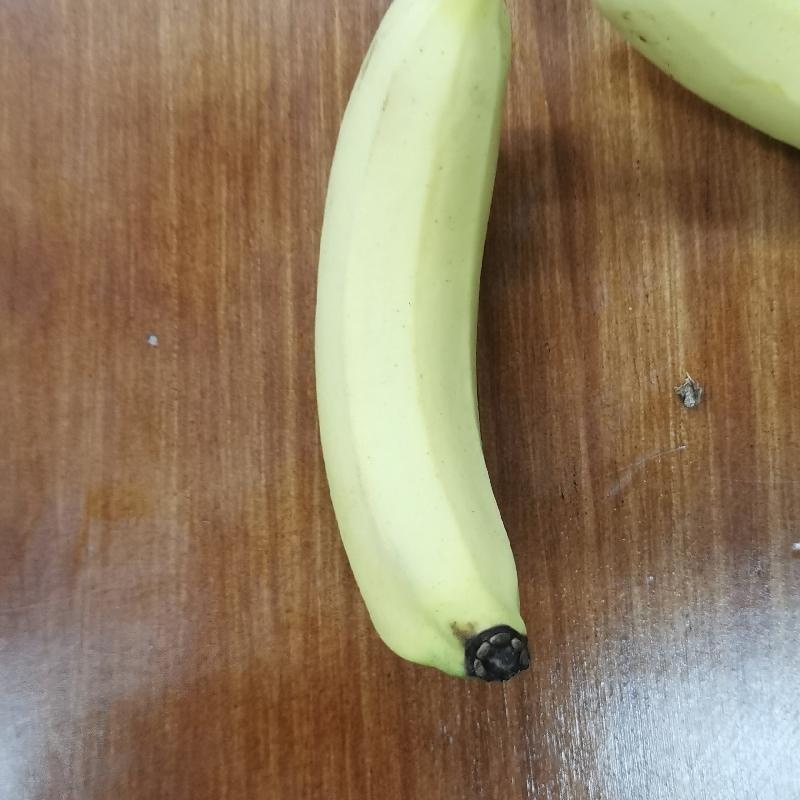bananas: (300, 3, 534, 685)
